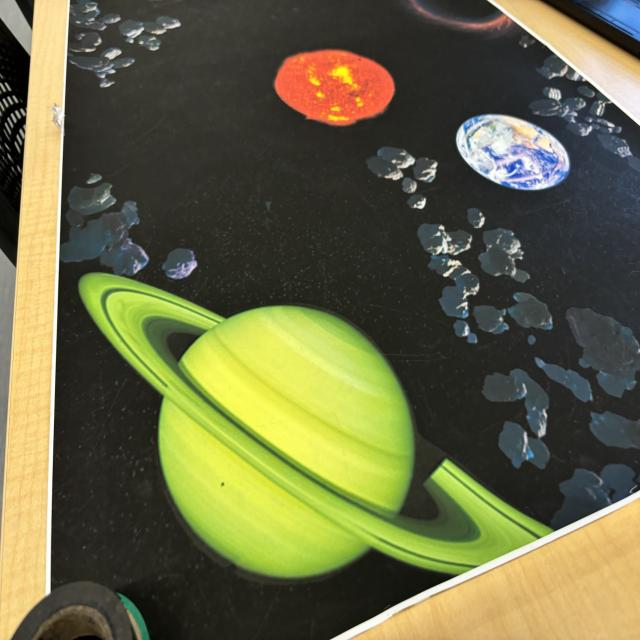Asteroids: (371, 145, 640, 521), (64, 172, 194, 279), (71, 0, 182, 83), (538, 56, 620, 140)
Black Hole: (409, 0, 509, 28)
Earth: (457, 110, 571, 192)
Saturn: (80, 270, 524, 566)
Sun: (277, 47, 399, 126)
